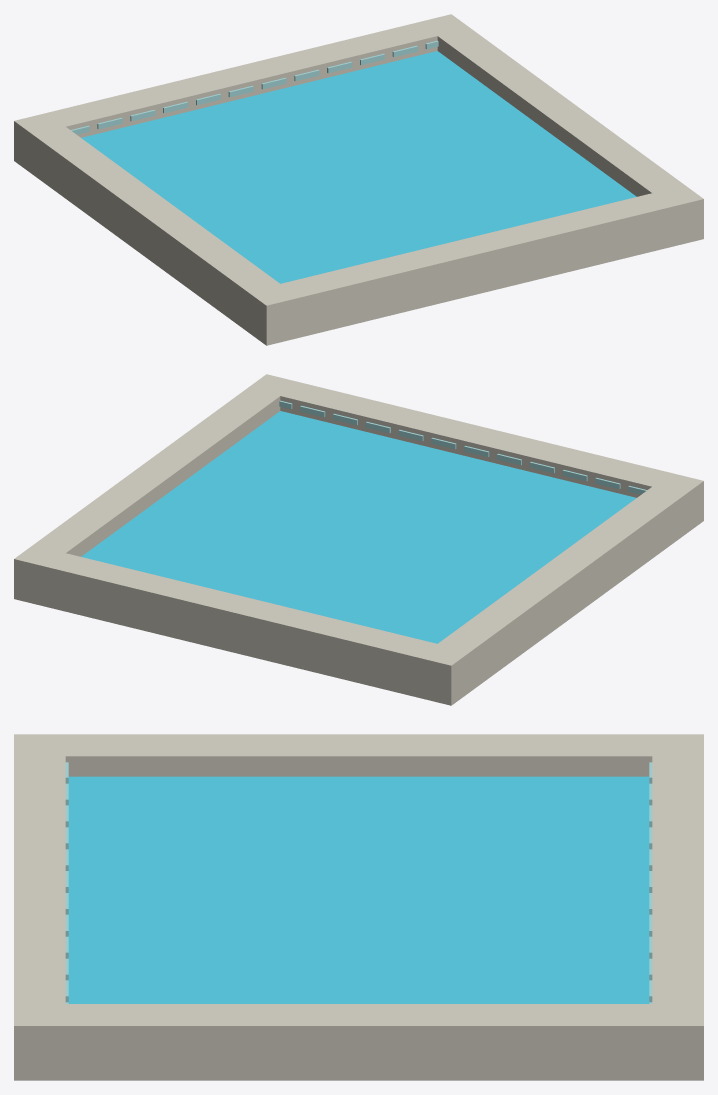
Rendered from waterpark-and-pool-operations-waterpark-and-pool-opera-cfdc507a.glb.
3 views of the same model, one above another, from view 1: azimuth 30°, elevation 25°; view 2: azimuth 150°, elevation 25°; view 3: azimuth 270°, elevation 25° (orthographic). The views are drawn at different scales.
Parts seen in each view (by area): view 1: waterpark-and-pool-operations-shallow-splash-pool; view 2: waterpark-and-pool-operations-shallow-splash-pool; view 3: waterpark-and-pool-operations-shallow-splash-pool.
Part boxes in pixels (x1,y1,x2,y2): waterpark-and-pool-operations-shallow-splash-pool: (14, 14, 703, 345); waterpark-and-pool-operations-shallow-splash-pool: (14, 374, 703, 705); waterpark-and-pool-operations-shallow-splash-pool: (14, 734, 703, 1080).
Size of the model in its own units: 4 by 0.3501 by 4.
